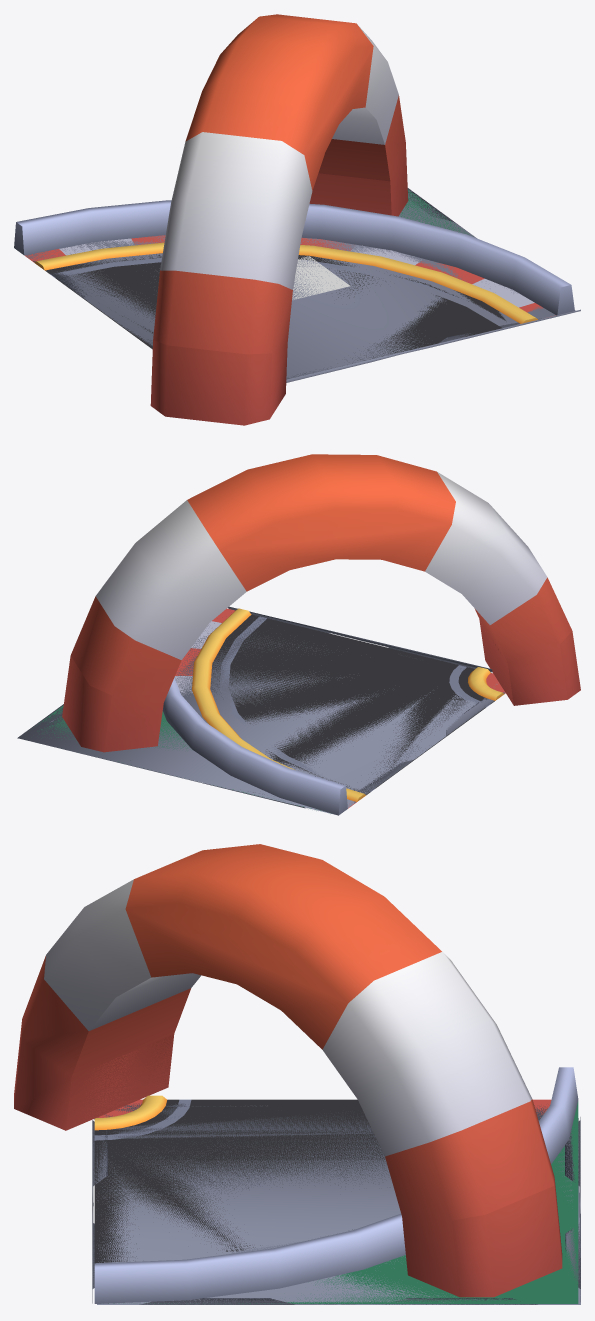
File: track-checkpoint-corner-ground.glb
3 renders of one model, top to bottom at view 1: azimuth 30°, elevation 25°; view 2: azimuth 150°, elevation 25°; view 3: azimuth 270°, elevation 25°, orthographic. The views are drawn at different scales.
Parts seen in each view (by area): view 1: track-corner; view 2: track-corner; view 3: track-corner.
Boxes of the visible parts, x1,y1,x2,y2 form: track-corner: [14, 14, 580, 425]; track-corner: [17, 454, 580, 815]; track-corner: [14, 844, 580, 1304].
Size of the model in its own units: 11.81 by 7.01 by 11.72.
Materials: 3 (3 with a texture image).
